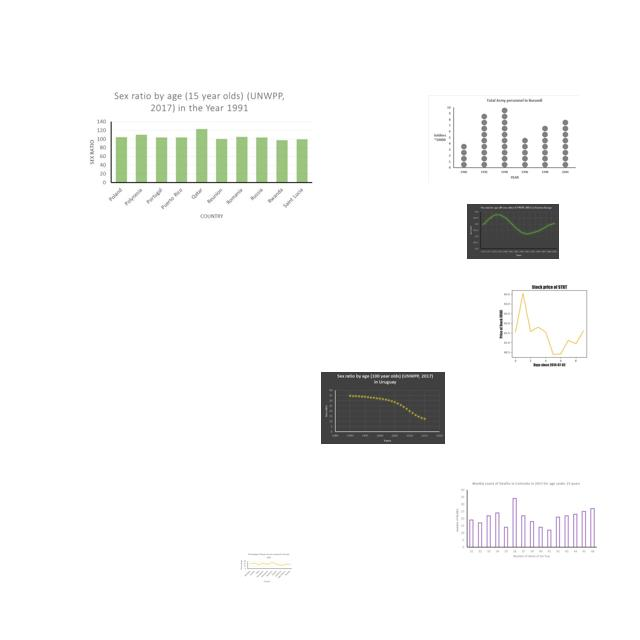Graph: (84, 86, 316, 222), (428, 95, 579, 183), (452, 479, 599, 562), (490, 280, 606, 367), (321, 372, 445, 444), (467, 204, 559, 259), (239, 552, 293, 584)
